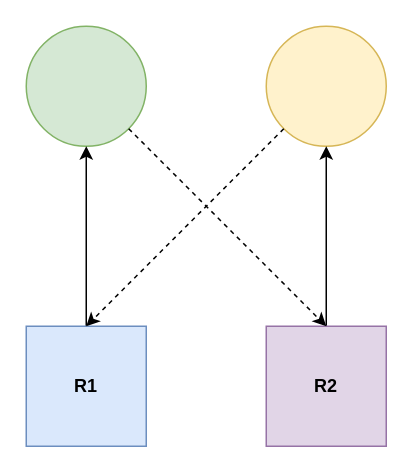
The diagram is 413 pixels wide and 473 high, and some of its shapes have lost their labels. The shapes that lost their labels are listed below. From the top down, each one's box as (x1, y1, x2, y2) in pixels, then its label:
(25, 25, 146, 146): P1
(265, 25, 386, 146): P2
